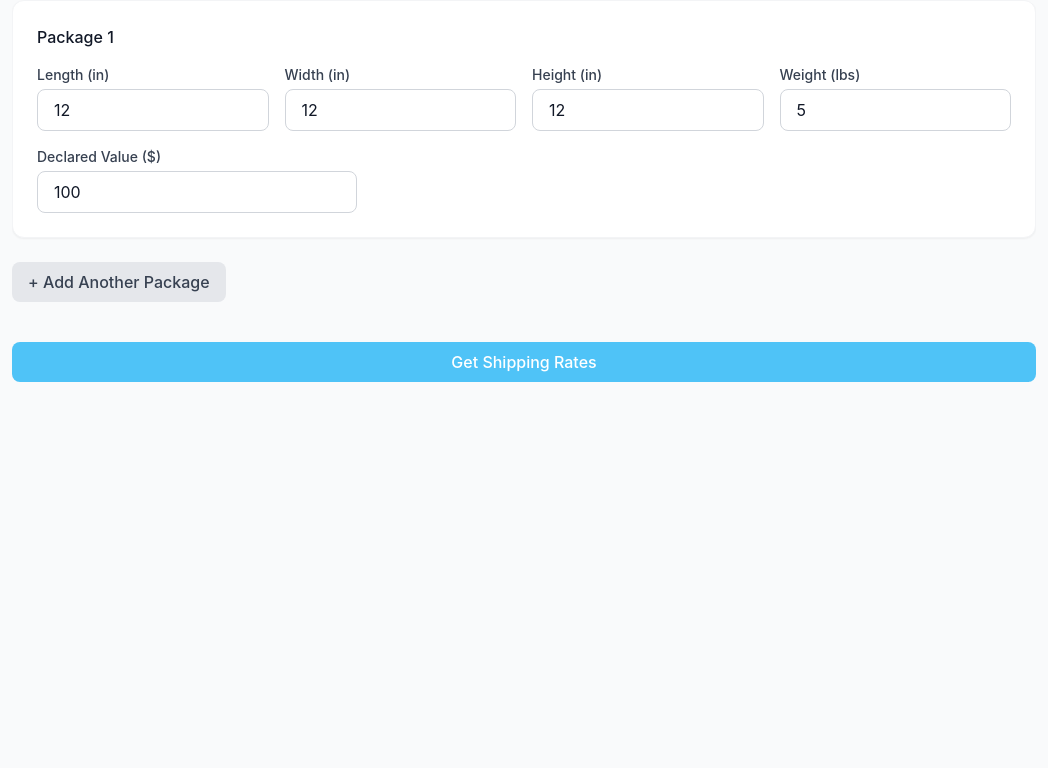
Scenario: PackageDetailsForm - Smoke Tests › allows adding more packages
Note: Click add package button
Click the button "+ Add Another Package": click(119, 282) [12,262,226,302]
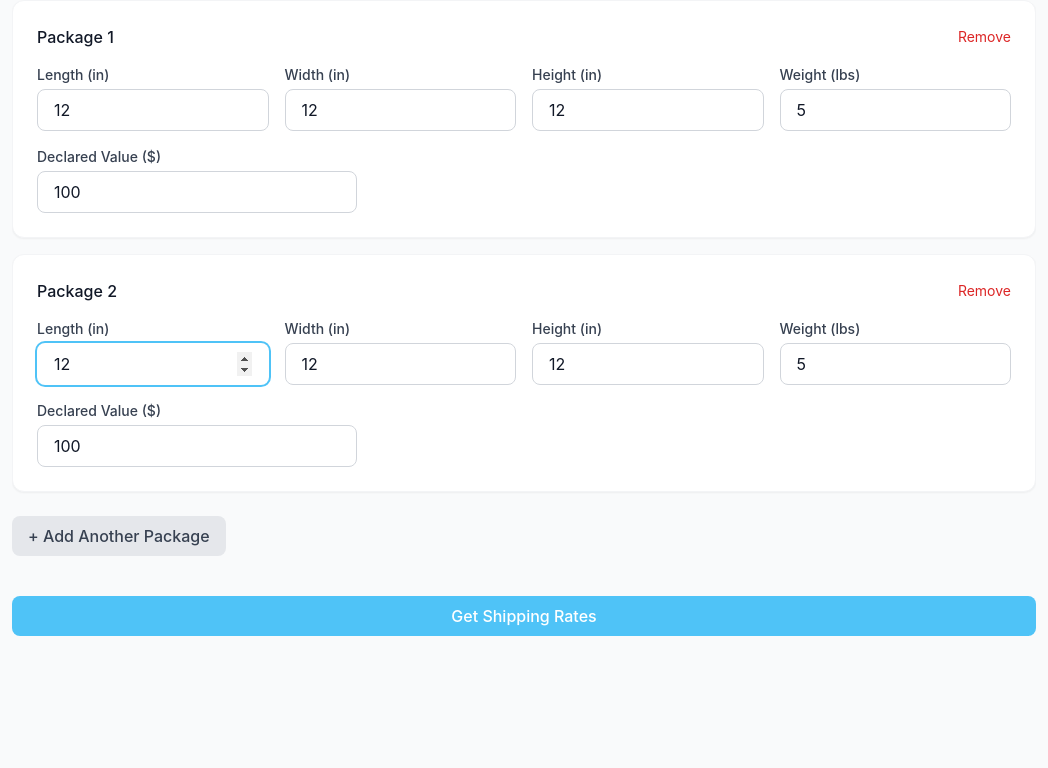
expect the number of headings "Package 1" is 1: met, box [37,25,114,49]
expect the number of headings "Package 2" is 1: met, box [37,279,117,303]
